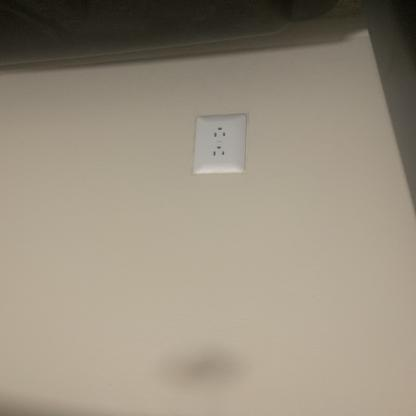OUTLET: (191, 115, 247, 174)
